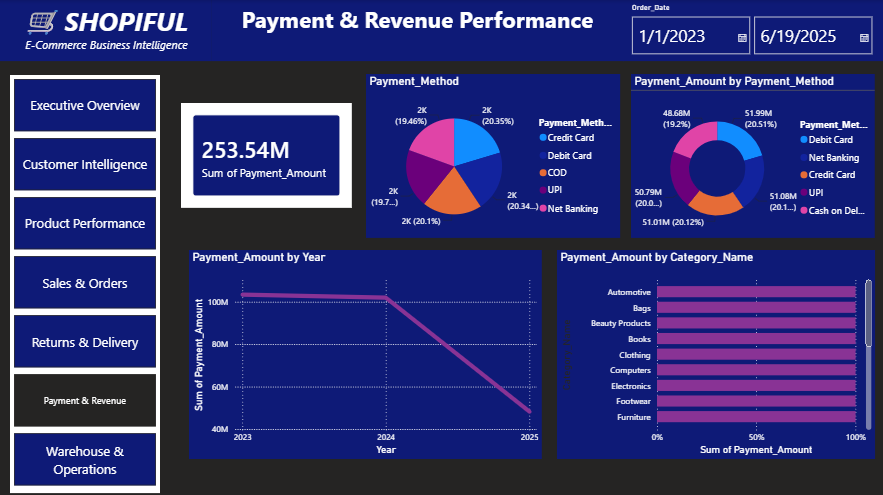

The page's visual inventory and layout, read from the dashboard file:
{"tool":"powerbi","page":{"name":"Payment & Revenue","canvas":[1280,720],"ordinal":5},"visuals":[{"type":"textbox","box":[0,0,308.2,87.8],"z":0},{"type":"pieChart","title":"Payment_Method","fields":{"Y":["cartnova orders.Total Orders"],"Category":["cartnova orders.Payment_Method"]},"box":[529.9,106.6,365.8,236.2],"z":1000},{"type":"cardVisual","fields":{"Data":["Sum(cartnova payment.Payment_Amount)"]},"box":[263.5,148.3,246.2,151.2],"z":2000},{"type":"slicer","fields":{"Values":["cartnova orders.Order_Date"]},"box":[900,0,380.5,87.8],"z":3000},{"type":"textbox","box":[308.2,0,591.8,87.8],"z":4000},{"type":"donutChart","title":"Payment_Amount by Payment_Method","fields":{"Category":["cartnova payment.Payment_Method"],"Y":["Sum(cartnova payment.Payment_Amount)"]},"box":[911.5,106.6,351.4,236.2],"z":5000},{"type":"lineChart","title":" Payment_Amount by Year","fields":{"Category":["cartnova orders.Order_Date.Variation.Date Hierarchy.Year","cartnova orders.Order_Date.Variation.Date Hierarchy.Month"],"Y":["Sum(cartnova payment.Payment_Amount)"]},"box":[275,360,508.3,301],"z":6000},{"type":"hundredPercentStackedBarChart","title":" Payment_Amount by Category_Name","fields":{"Category":["cartnova categories.Category_Name"],"Y":["Sum(cartnova payment.Payment_Amount)"]},"box":[805,360,457.9,301],"z":7000},{"type":"pageNavigator","box":[17.3,108,216,601.9],"z":8000}]}

Visuals, with their boxes in screenshot pixels (x1, y1, x2, y2), scaled from the page's 1280x720 canvas onto the 883x495 screenshot:
textbox: (x1=0, y1=0, x2=213, y2=60)
"Payment_Method" pieChart: (x1=366, y1=73, x2=618, y2=236)
cardVisual - Sum(cartnova payment.Payment_Amount): (x1=182, y1=102, x2=352, y2=206)
slicer - cartnova orders.Order_Date: (x1=621, y1=0, x2=882, y2=60)
textbox: (x1=213, y1=0, x2=621, y2=60)
"Payment_Amount by Payment_Method" donutChart: (x1=629, y1=73, x2=871, y2=236)
" Payment_Amount by Year" lineChart: (x1=190, y1=248, x2=540, y2=454)
" Payment_Amount by Category_Name" hundredPercentStackedBarChart: (x1=555, y1=248, x2=871, y2=454)
pageNavigator: (x1=12, y1=74, x2=161, y2=488)
